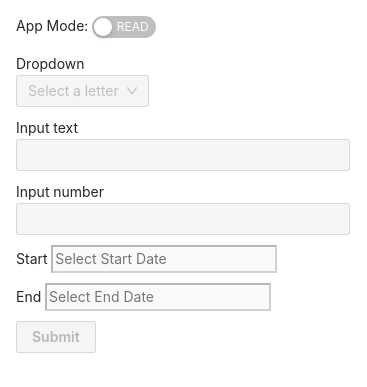
Test: Form › show correctly the dates overlap error
Click the switch with test id "appToggle" at (124, 27), box [92,16,156,38]
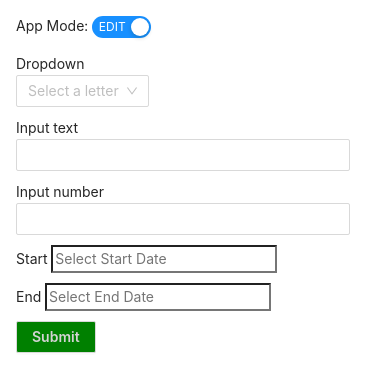
Press the mouse on the field with placeholder "Select Start Date" at (164, 259), box [51,245,277,273]
Type "05-06-2020" into the field with placeholder "Select Start Date" at (164, 259), box [51,245,277,273]
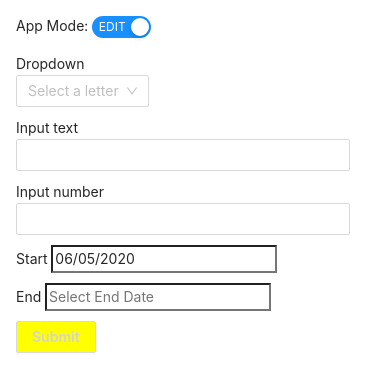
Press the mouse on the field with placeholder "Select End Date" at (158, 297), box [45,283,271,311]
Type "06-06-2020" into the field with placeholder "Select End Date" at (158, 297), box [45,283,271,311]
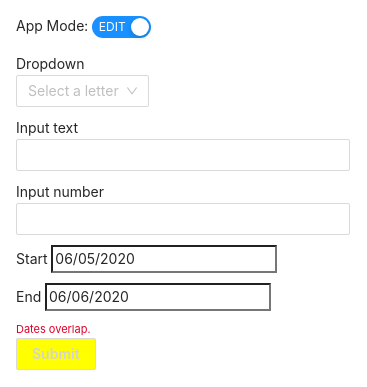
Check: the text "Dates overlap." is shown, box [16,322,90,336]
